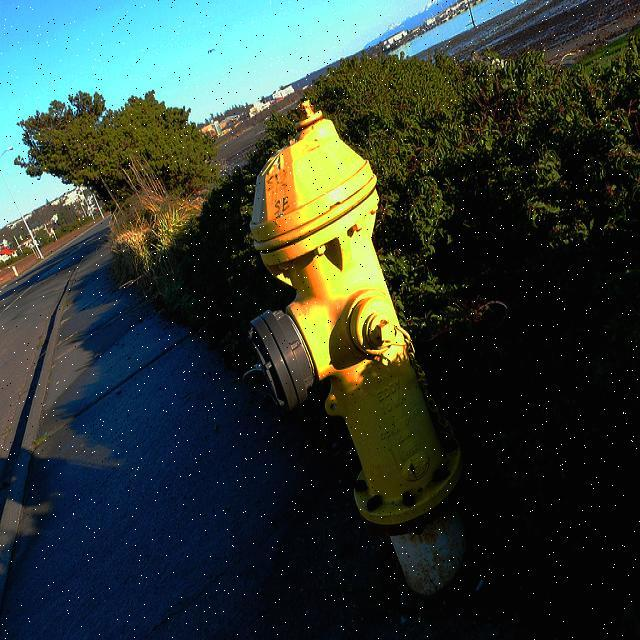fire_hydrant: (244, 103, 484, 595)
